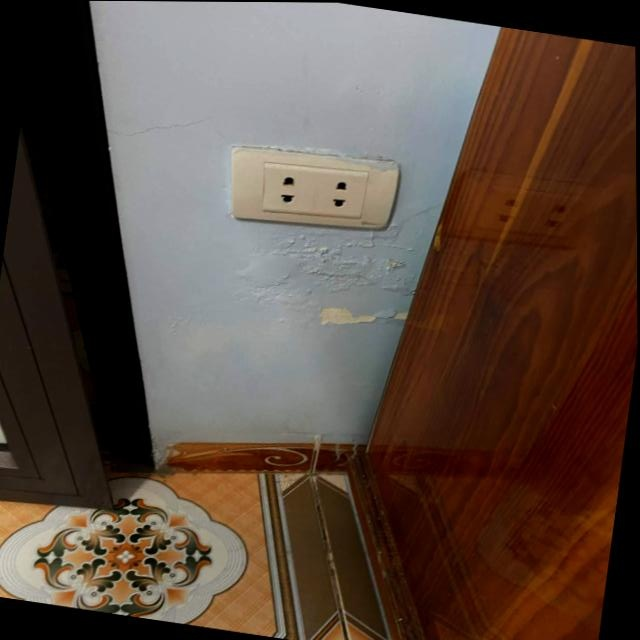outlet: (220, 136, 403, 243)
